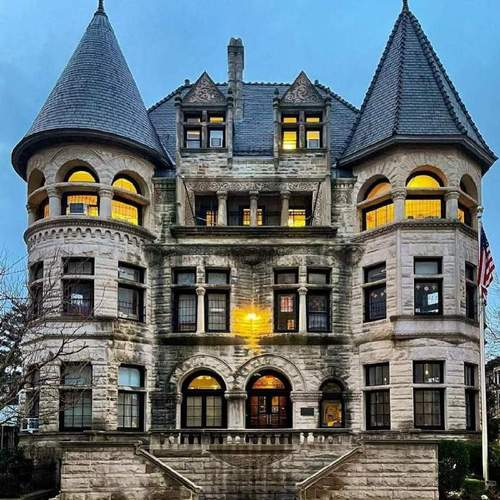buildings: (34, 45, 483, 471)
